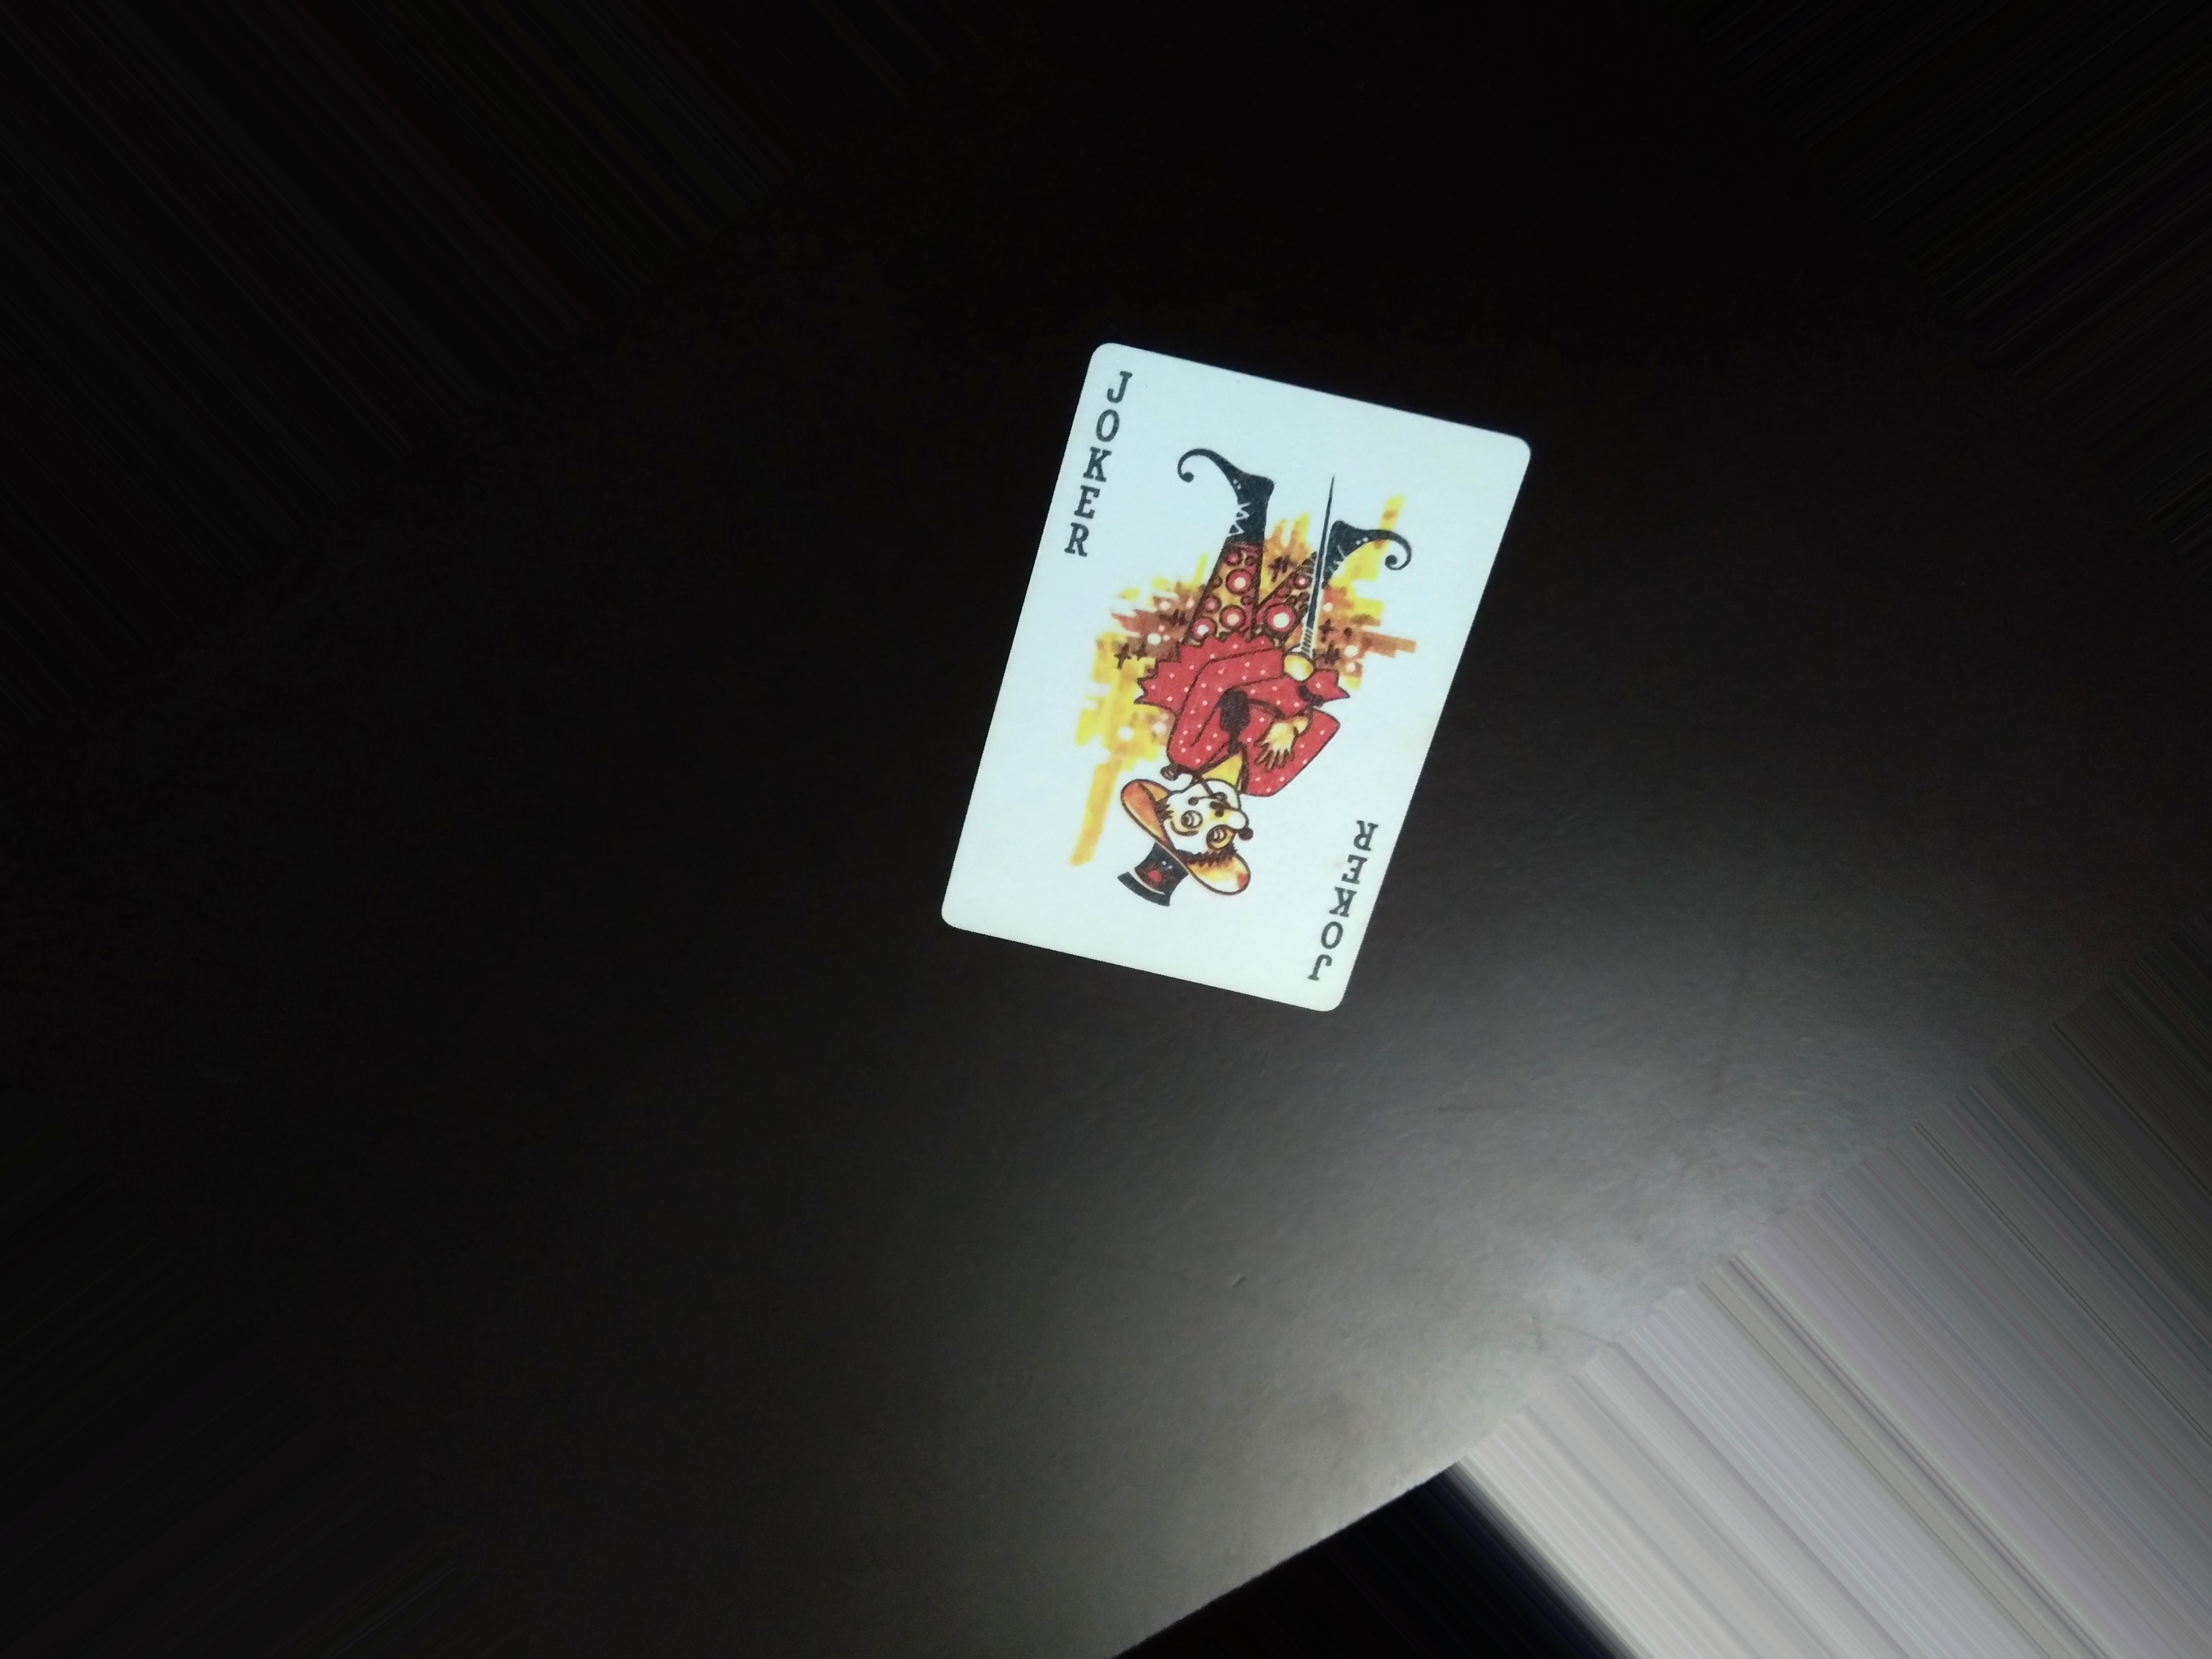JOKER: (1059, 355, 1146, 572)
